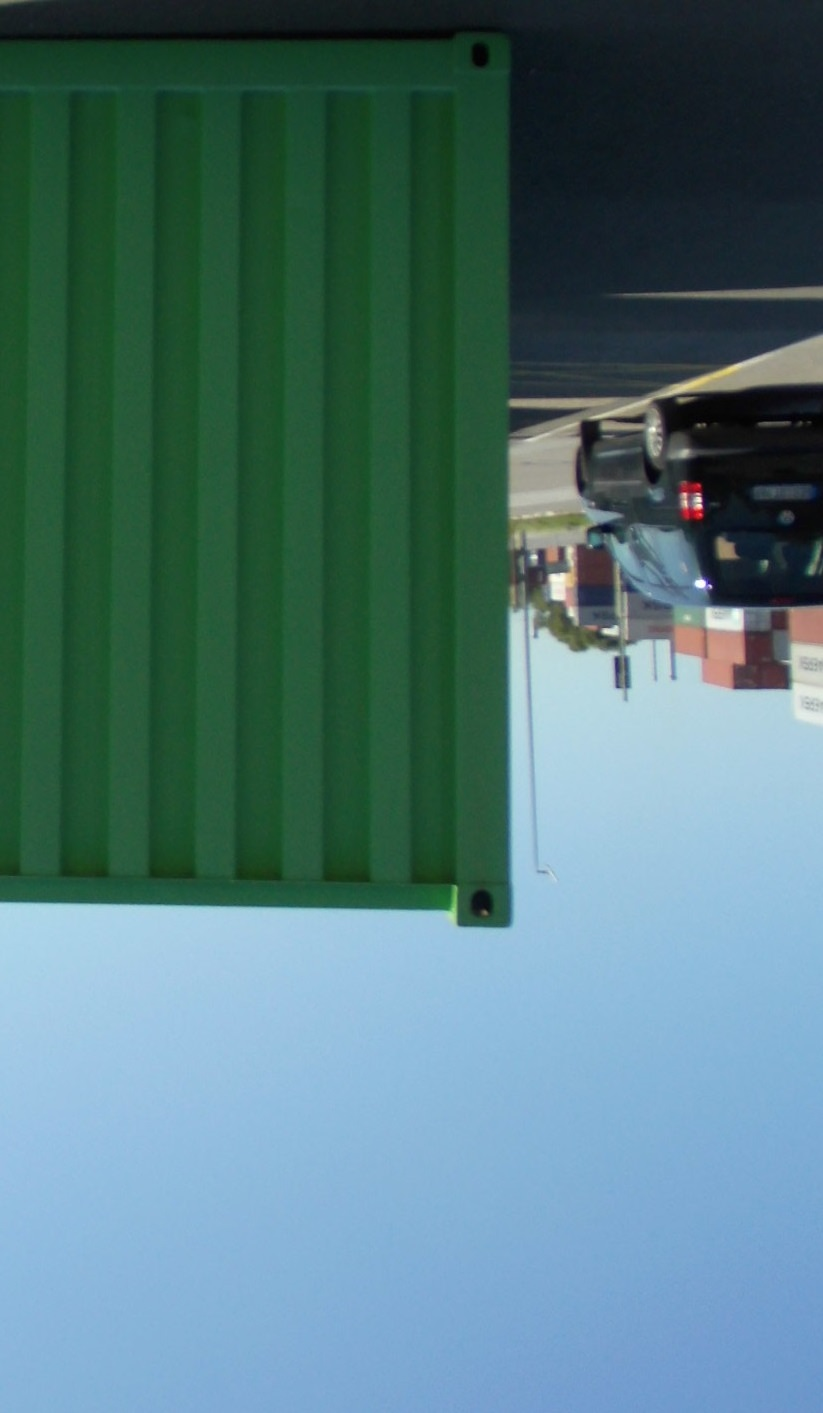container_no_door: (11, 36, 507, 929)
